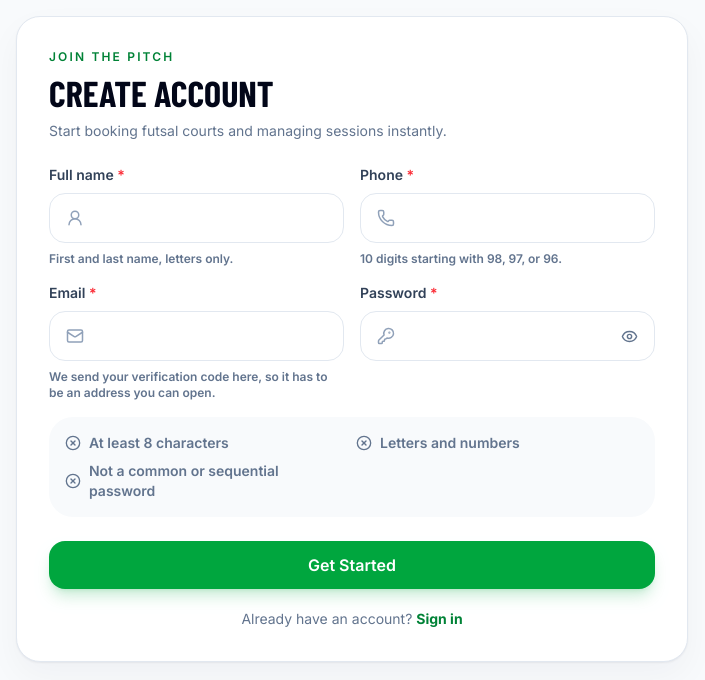
Test: Register › waits for a blur before flagging a field the visitor is still filling in
In the field labelled "Email": (196, 336) top-left (49, 311), bottom-right (344, 361), type "bi"
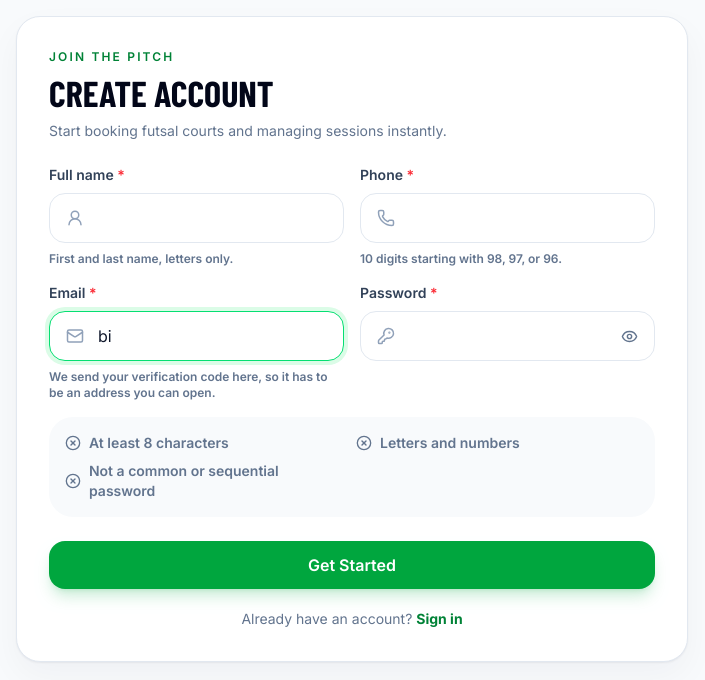
Check: the text "enter a valid email address" is not shown
Press Tab
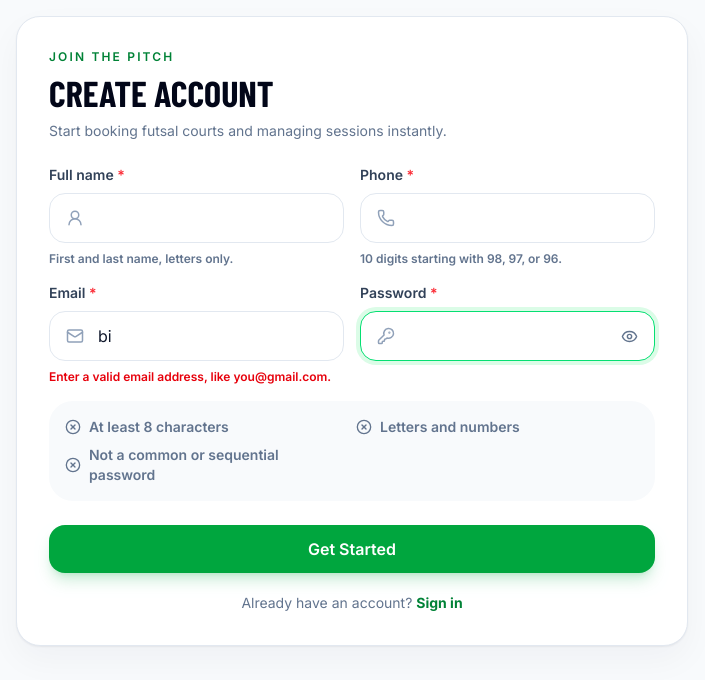
Check: the text "Enter a valid email address, like you@gmail.com." is shown, box top-left (49, 369), bottom-right (344, 385)
